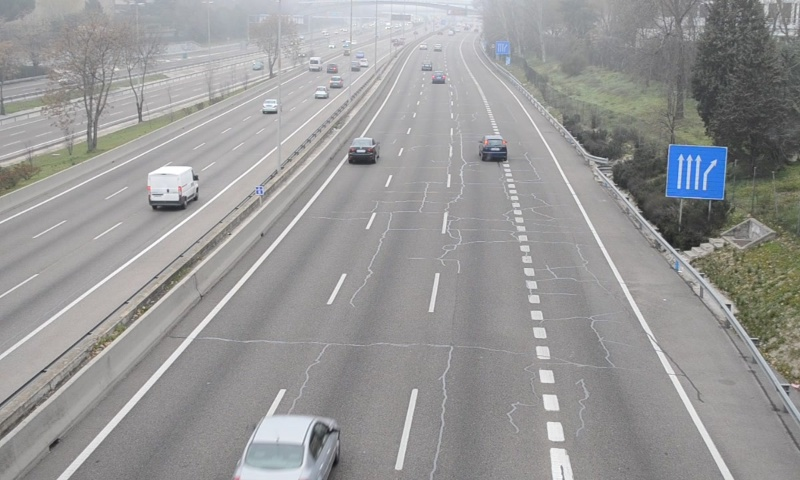car: (236, 416, 337, 480), (348, 137, 378, 162), (480, 135, 508, 161)
